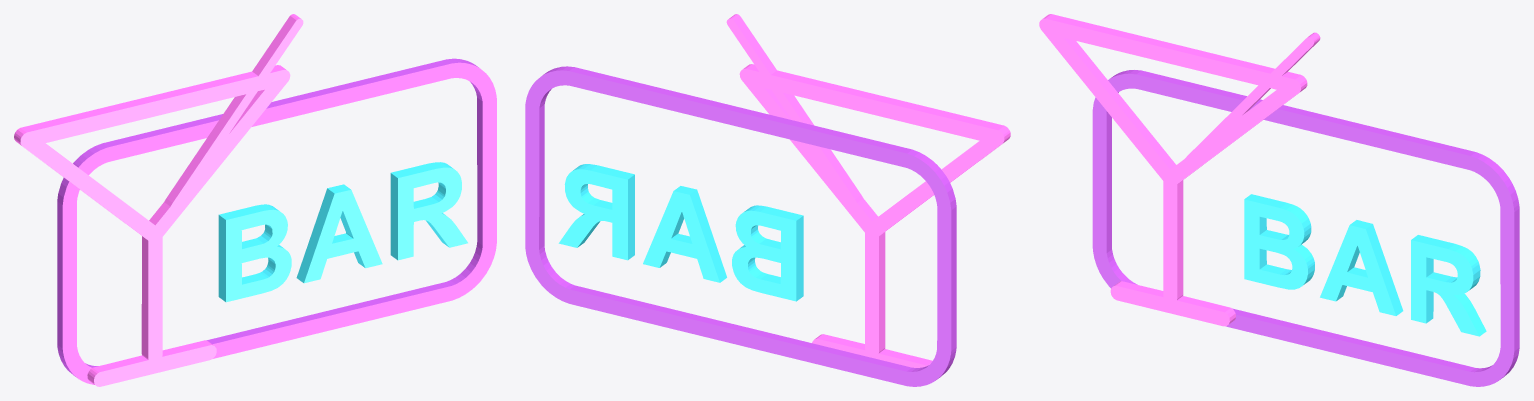
The model's file is neon_bar.glb.
3 renders of one model, left to right at view 1: azimuth 30°, elevation 25°; view 2: azimuth 150°, elevation 25°; view 3: azimuth 330°, elevation 25°, orthographic. The views are drawn at different scales.
Parts seen in each view (by area): view 1: bar_board; view 2: bar_board; view 3: bar_board.
Boxes of the visible parts, bbox=[...] form: bar_board: bbox=[14, 14, 496, 386]; bar_board: bbox=[525, 14, 1010, 386]; bar_board: bbox=[1039, 14, 1519, 386].
Size of the model in its own units: 3 by 1.93 by 0.1289.
